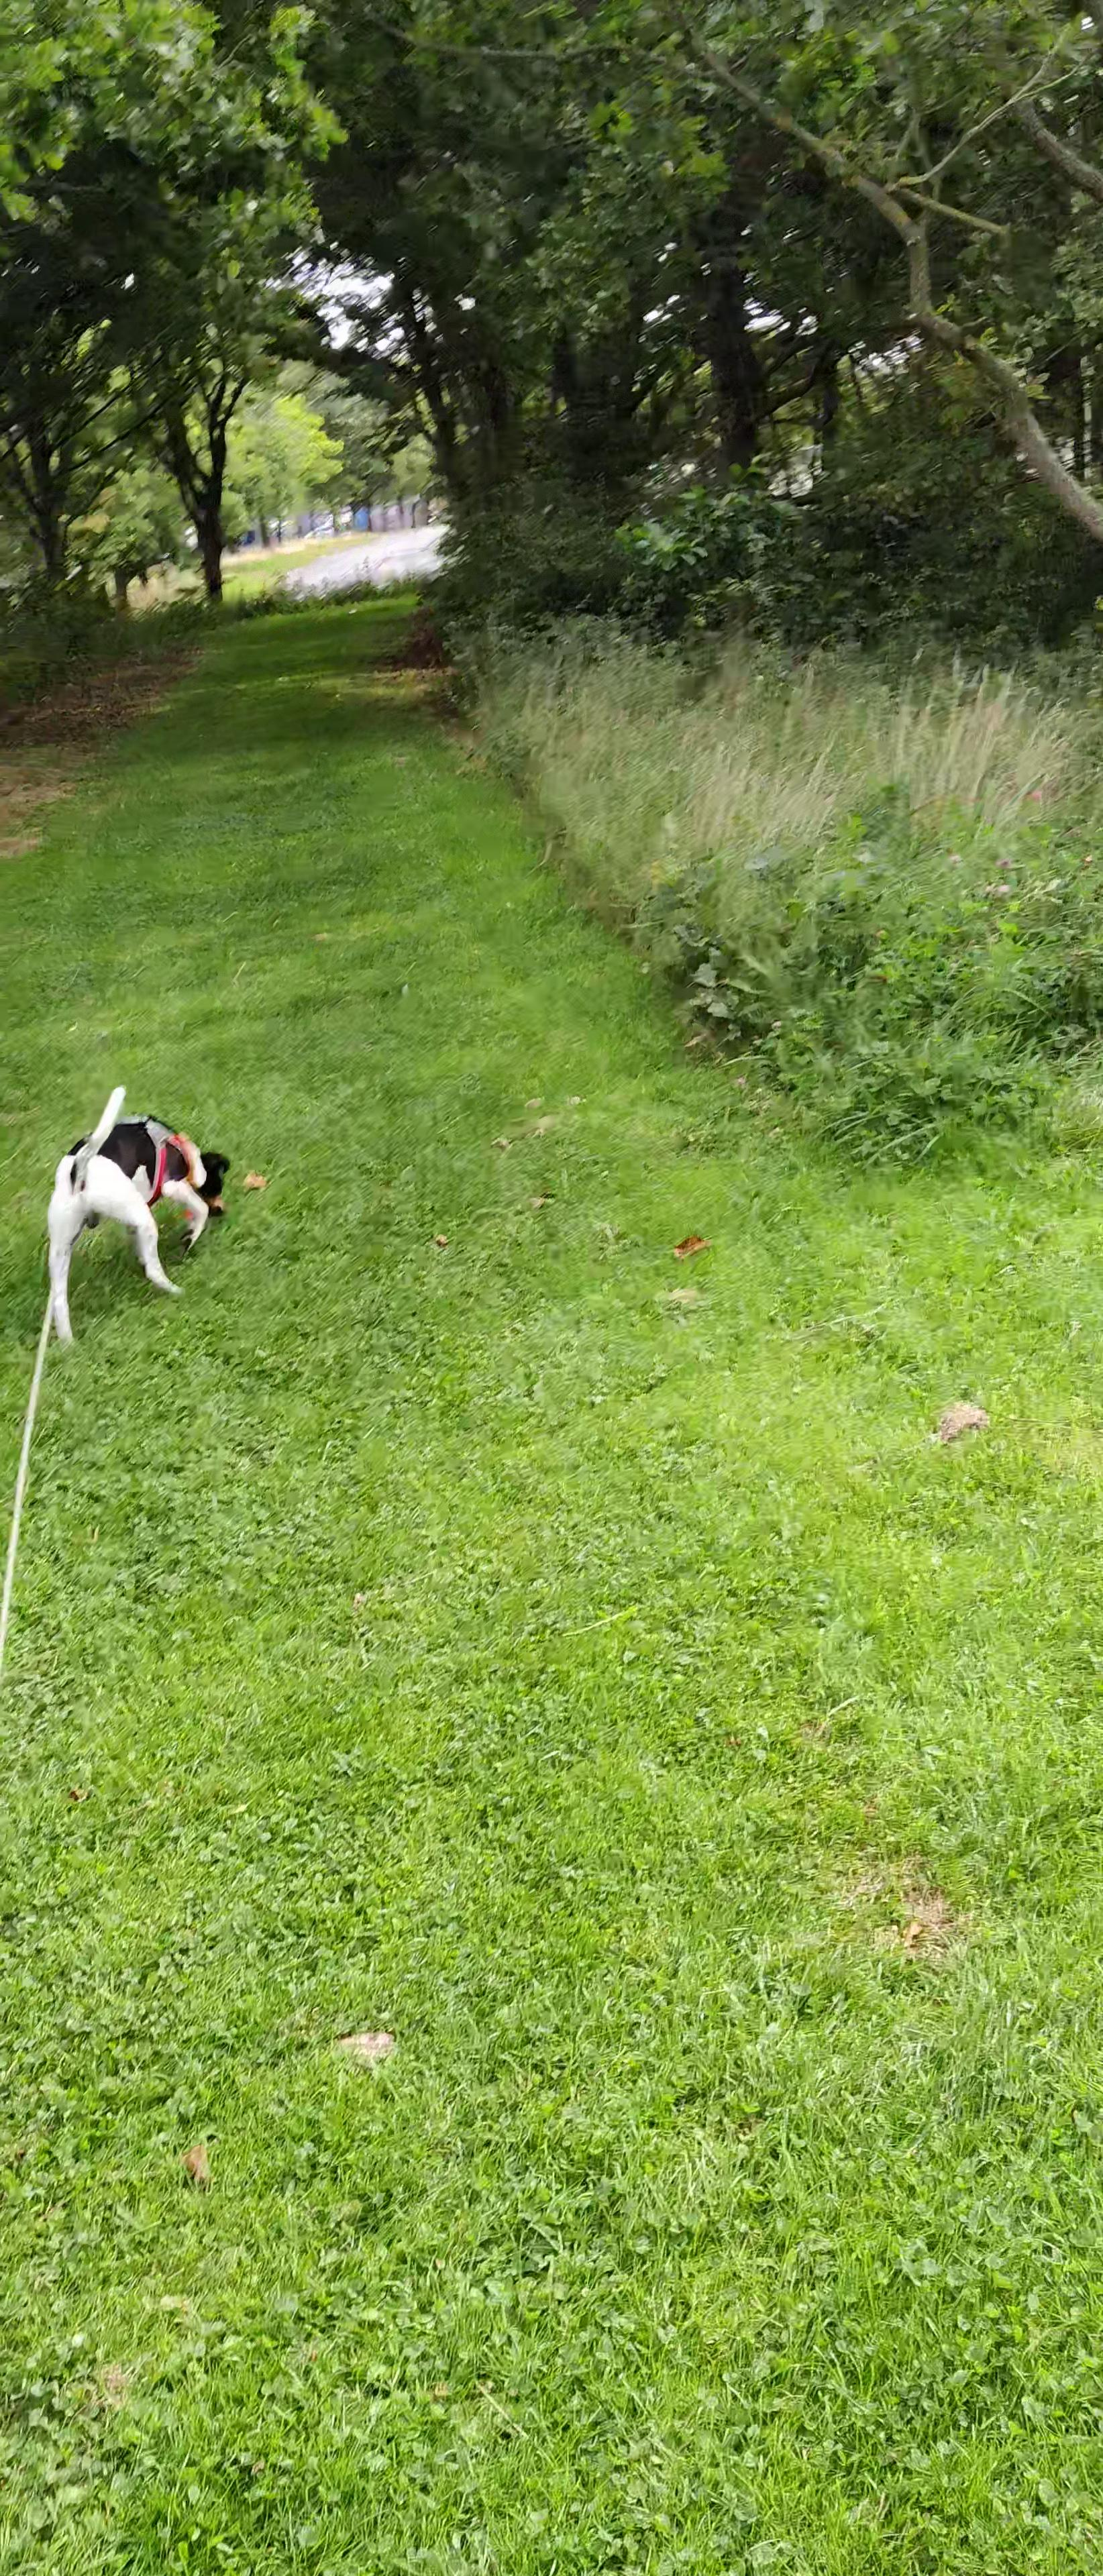Dog: (28, 1073, 253, 1362)
